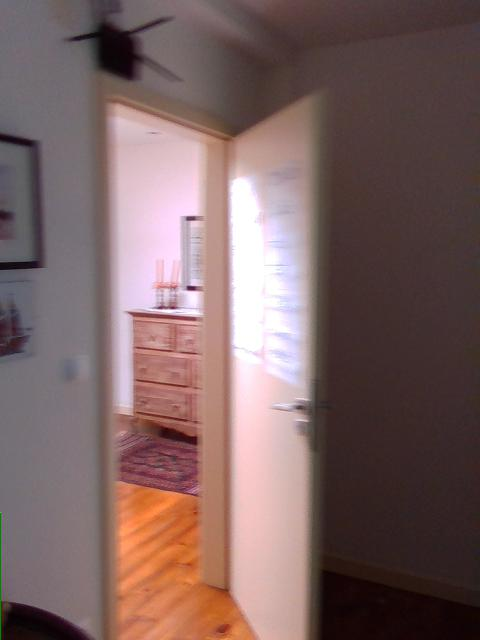semi_door: (91, 68, 331, 639)
